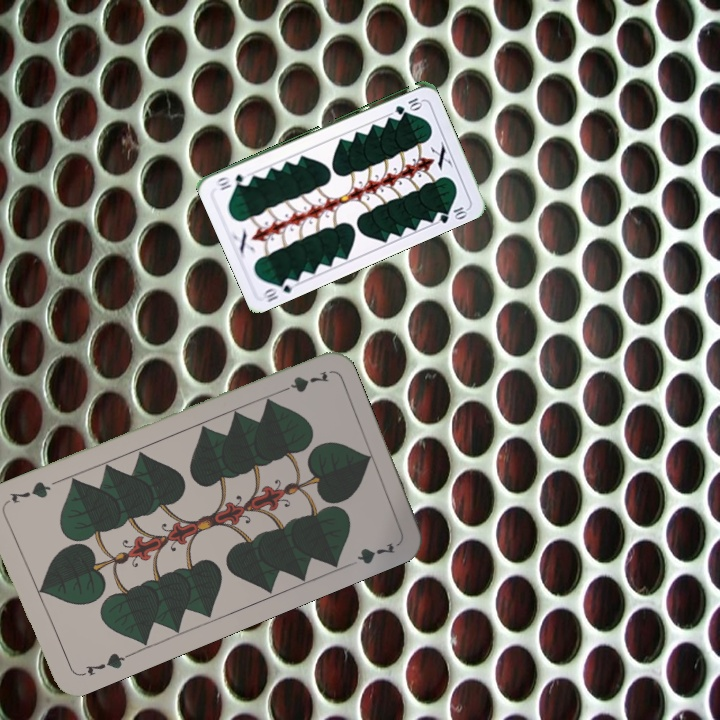G10: (259, 274, 299, 305), (391, 94, 424, 116)
G7: (75, 648, 132, 680), (273, 366, 331, 397)
